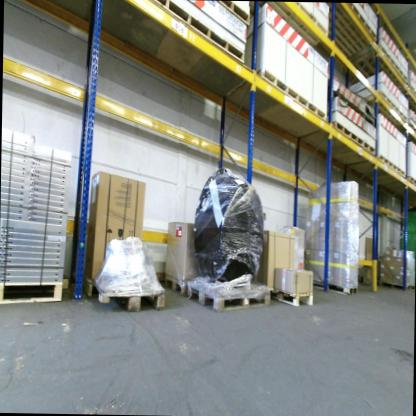pallet: (148, 3, 246, 70), (253, 67, 329, 122), (86, 270, 166, 321), (249, 3, 329, 46), (186, 276, 269, 315), (354, 43, 409, 91), (0, 276, 63, 310), (328, 3, 378, 45), (331, 117, 378, 161), (333, 88, 380, 131), (373, 90, 408, 126), (309, 274, 358, 299), (271, 286, 316, 309), (156, 262, 187, 293), (374, 151, 407, 179), (221, 2, 251, 25), (376, 277, 413, 292), (403, 82, 416, 108), (360, 272, 376, 287), (405, 120, 416, 137), (406, 175, 416, 188)
